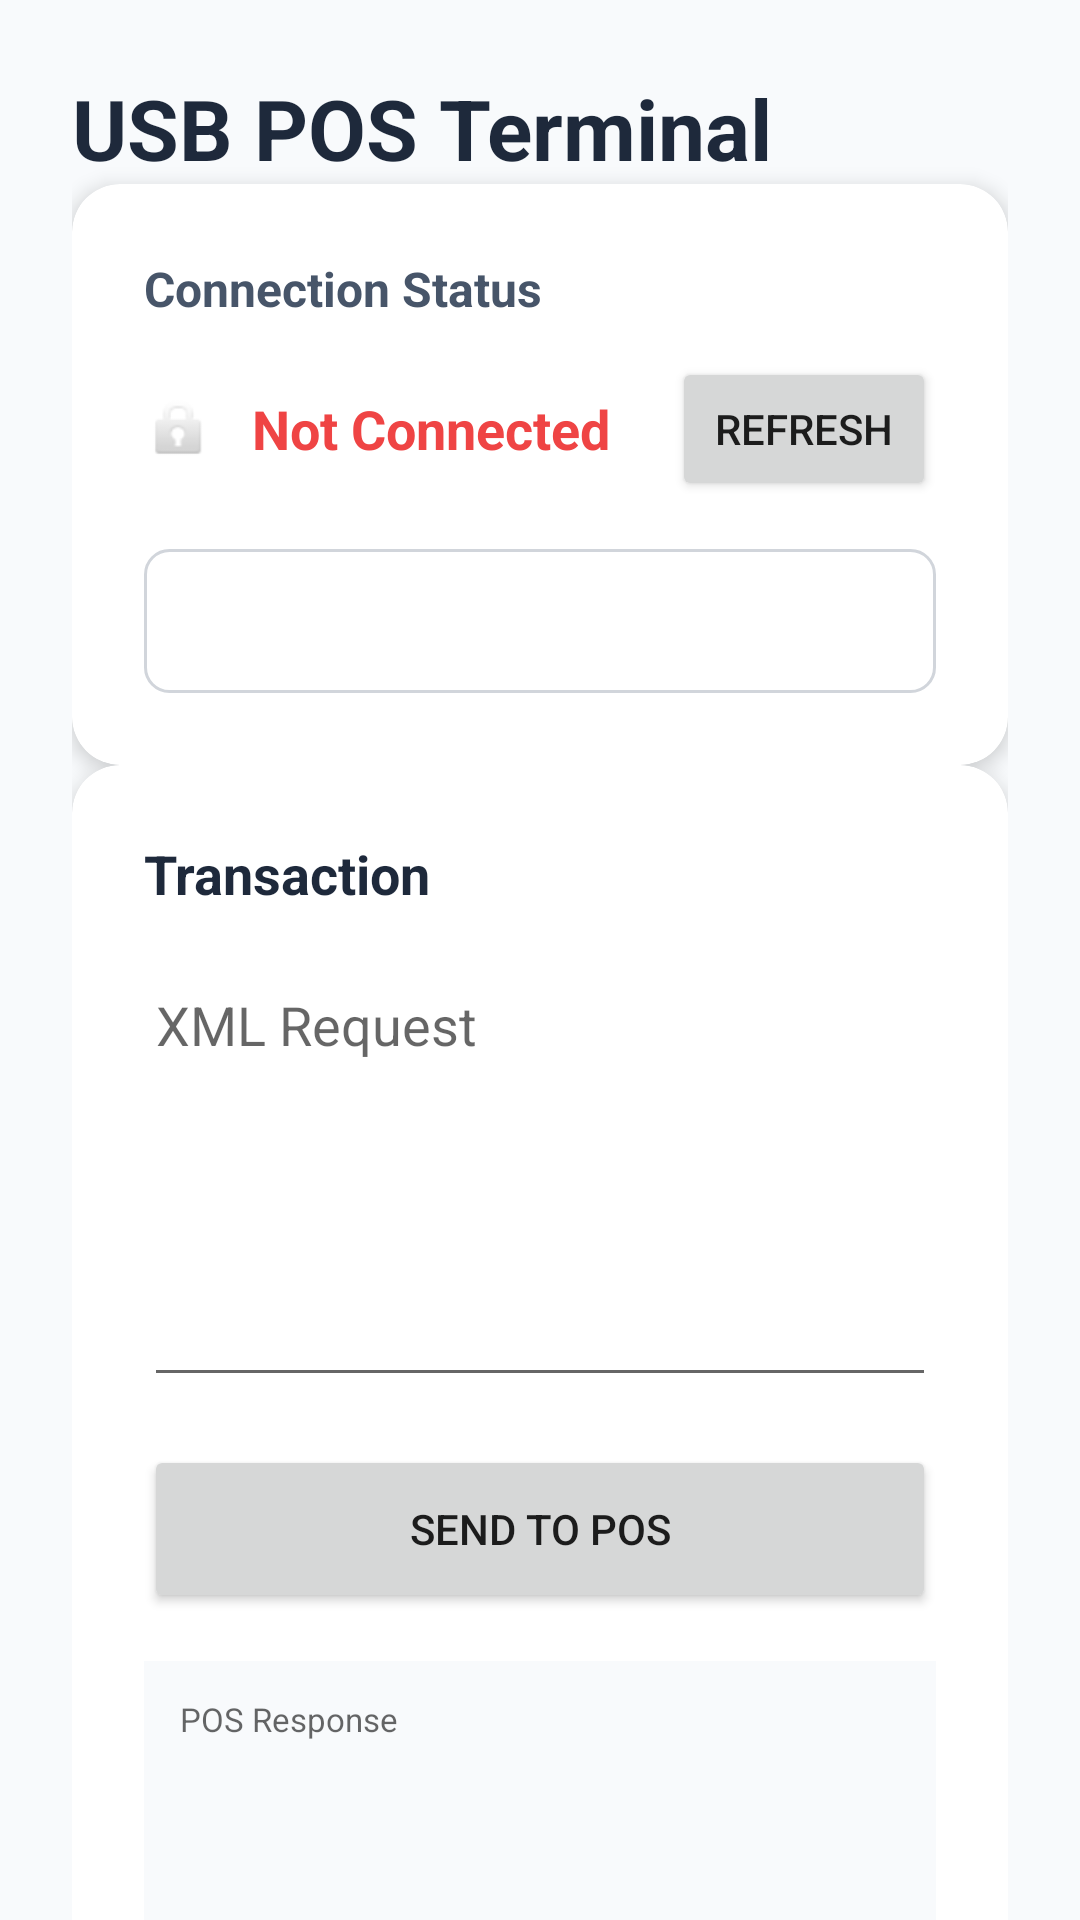

Screen size 1080 x 1920. Icon name, then its center in pixels as [x,y]:
lock idle: [178,438]
